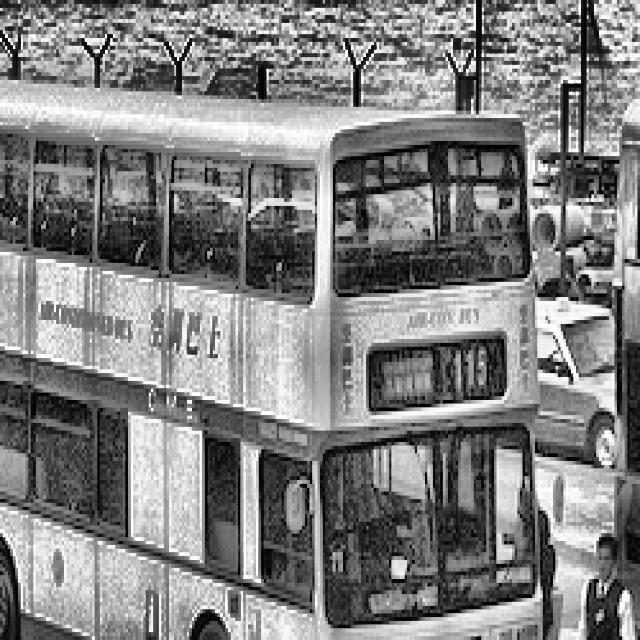light_vehicle: (532, 297, 617, 476)
